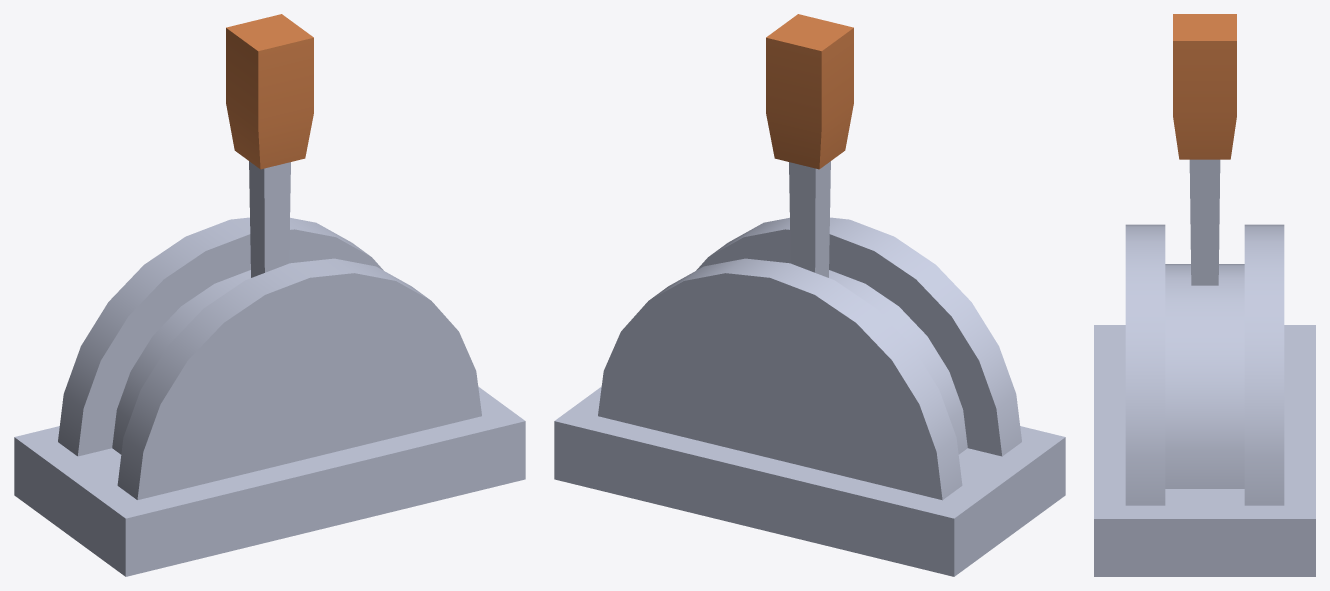
File: lever.obj
The picture shows the model from 3 angles, left to right: view 1: azimuth 30°, elevation 25°; view 2: azimuth 150°, elevation 25°; view 3: azimuth 270°, elevation 25°; orthographic projection.
Parts seen in each view (by area): view 1: lever, handle; view 2: lever, handle; view 3: lever, handle.
Boxes of the visible parts, <box> form: lever: <box>14,217,525,576</box>; handle: <box>226,14,313,277</box>; lever: <box>554,217,1065,576</box>; handle: <box>766,14,853,277</box>; lever: <box>1094,224,1315,576</box>; handle: <box>1173,14,1236,285</box>.
Bounding box in the file's own units: 0.58 × 0.6303 × 0.28.
